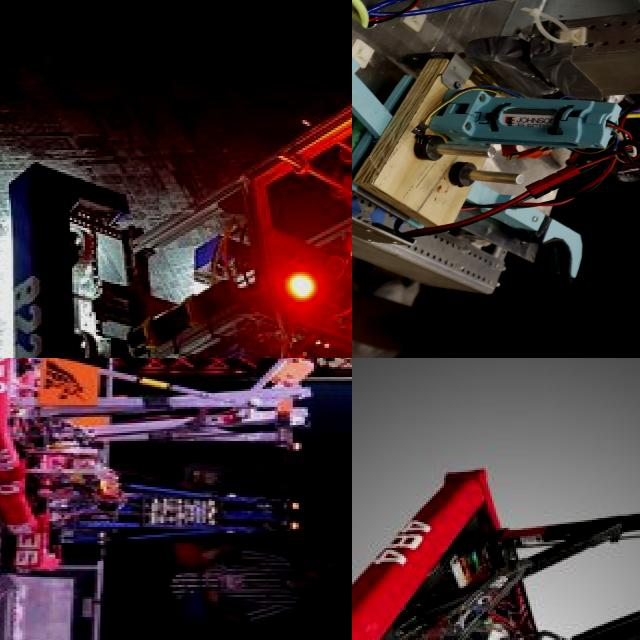FRC-Robots: (352, 0, 640, 358), (0, 71, 352, 358), (352, 433, 640, 640), (0, 358, 345, 490), (12, 484, 306, 584), (0, 454, 119, 548)
